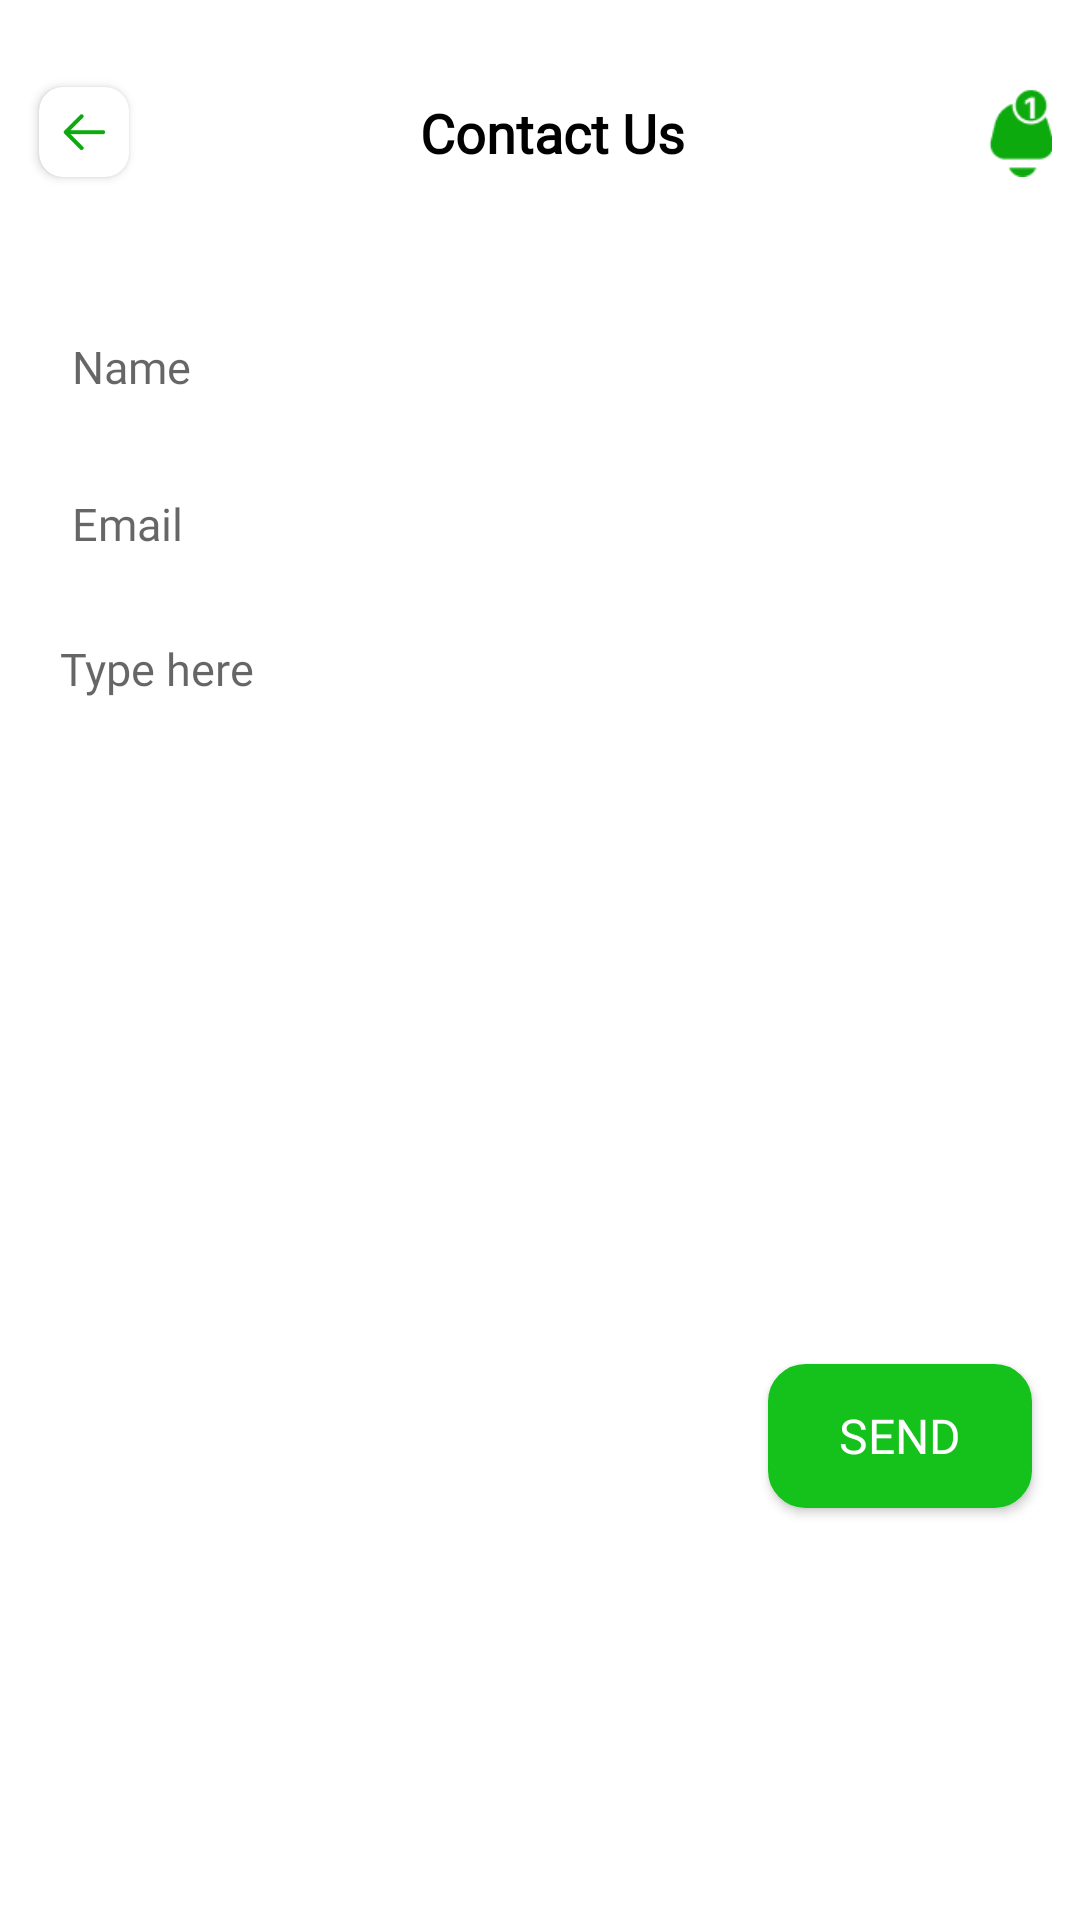

Point at icon controls on the screen. Image size 1080 × 1920, points as (x,y).
arrow back: (72,133)
notiffication: (1021,133)
